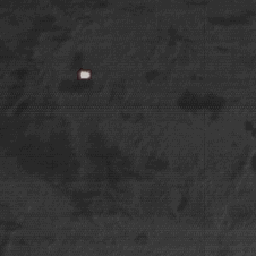Target: (76, 68, 92, 79)
